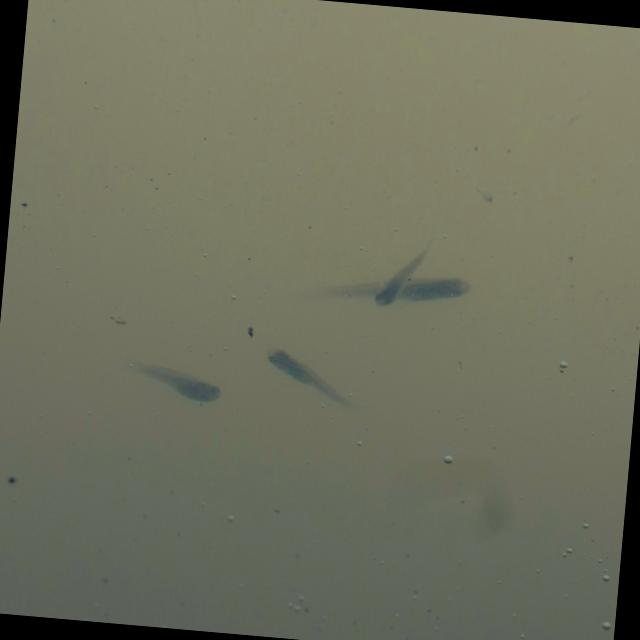Sivrisinek Baligi: (314, 253, 472, 316), (264, 344, 356, 414), (121, 352, 223, 408), (375, 237, 429, 309)
